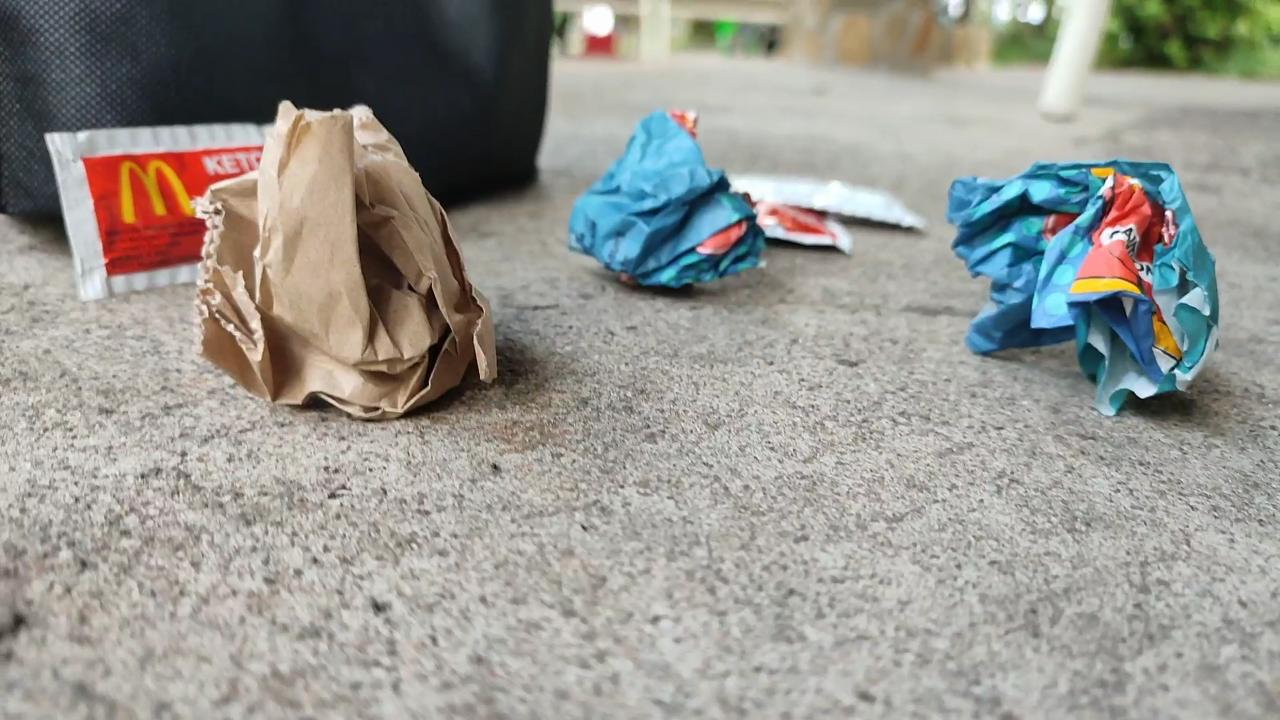Paper: (184, 97, 512, 423), (944, 117, 1226, 426), (534, 85, 768, 304)
